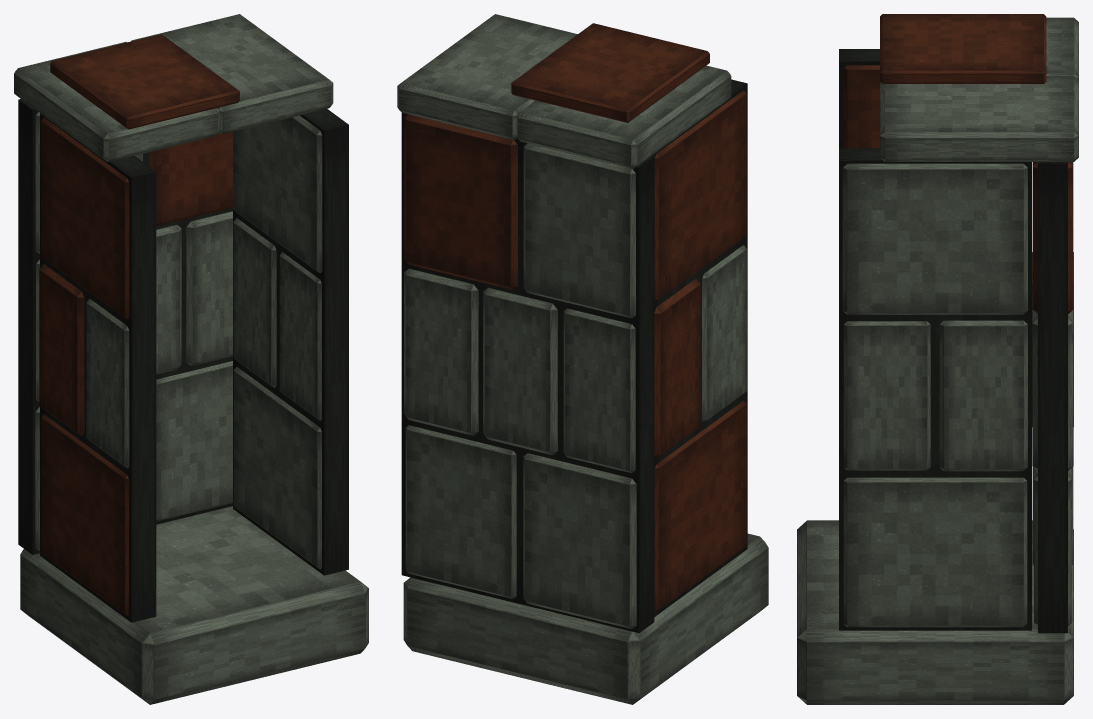
File: THStage_FindSupport_12.fbx
3 renders of one model, left to right at view 1: azimuth 30°, elevation 25°; view 2: azimuth 150°, elevation 25°; view 3: azimuth 270°, elevation 25°, orthographic. The views are drawn at different scales.
Visible parts, largest first — view 1: THStage_FindSupport_12; view 2: THStage_FindSupport_12; view 3: THStage_FindSupport_12.
Part boxes in pixels (left/top/right/bottom): THStage_FindSupport_12: left=14, top=14, right=368, bottom=704; THStage_FindSupport_12: left=397, top=14, right=768, bottom=704; THStage_FindSupport_12: left=797, top=14, right=1078, bottom=704.
Size of the model in its own units: 0.334 by 0.7756 by 0.336.
Materials: 1 (1 with a texture image).
